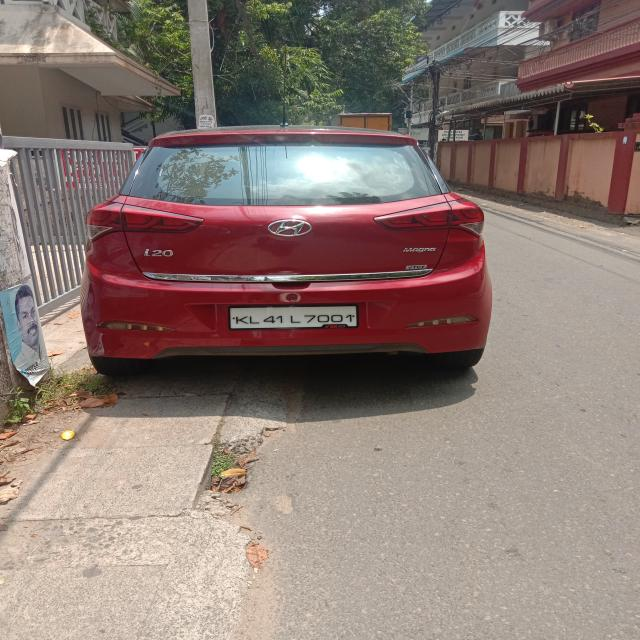Number_Plate_Detected: (227, 305, 361, 329)
